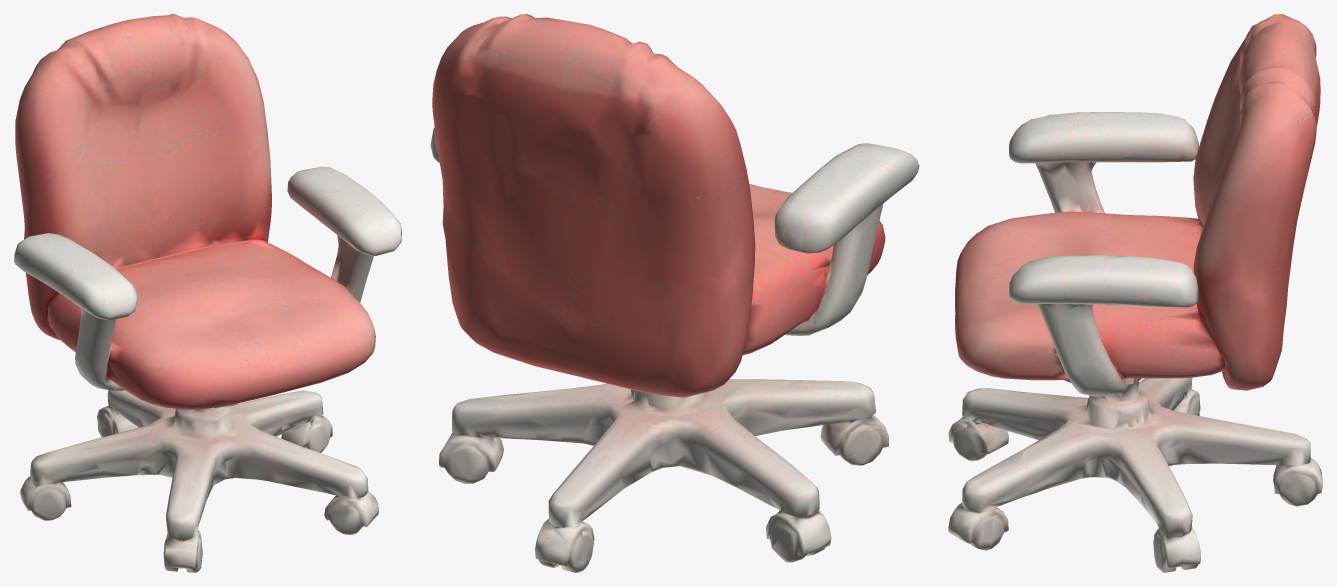
Rendered from chair.glb.
3 renders of one model, left to right at view 1: azimuth 30°, elevation 25°; view 2: azimuth 150°, elevation 25°; view 3: azimuth 270°, elevation 25°, orthographic. The views are drawn at different scales.
Size of the model in its own units: 1.51 by 1.9 by 1.39.
1 material, 1 textured.
